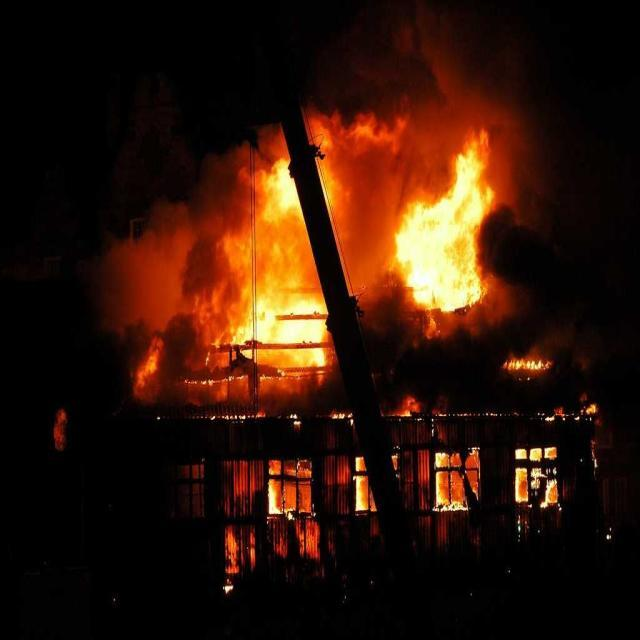Fire: (407, 202, 475, 304), (240, 298, 330, 374), (271, 164, 301, 208)
